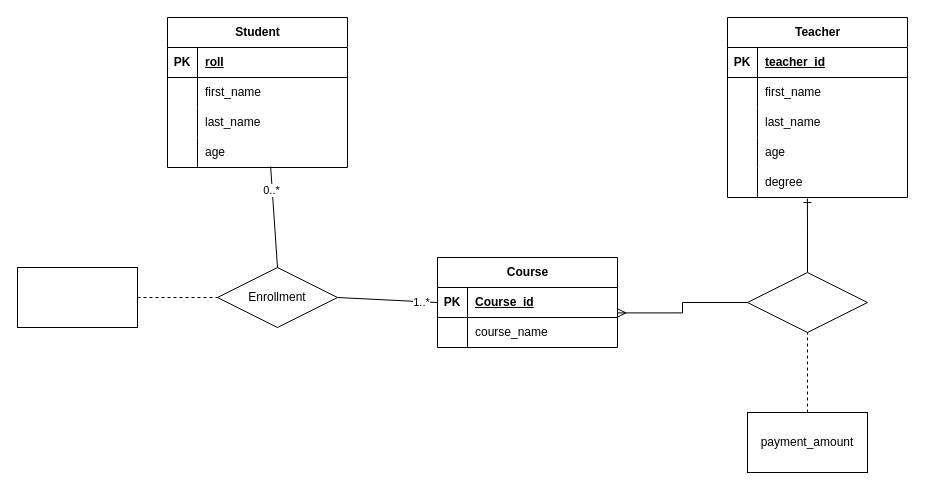
Image size: 925x490. Some labels were removed from this diagram. The shapes that lost their labels are listed below. From the top down, each one's centre as x and y in pixels, then its label:
At (77,297): "joining_date".
At (807,302): "course_taking".
